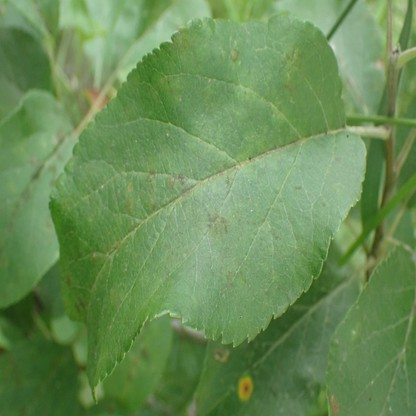rust: (238, 377, 253, 401)
scab: (236, 188, 286, 253), (60, 161, 110, 220), (155, 231, 186, 284), (213, 245, 246, 284), (280, 44, 304, 90), (173, 30, 202, 58), (239, 130, 263, 163), (190, 123, 216, 150), (132, 249, 153, 282), (161, 75, 183, 105), (109, 281, 127, 316), (206, 211, 230, 236), (234, 71, 255, 99), (261, 267, 280, 297), (145, 169, 158, 211), (205, 84, 221, 115), (28, 152, 45, 179), (269, 100, 286, 122), (6, 203, 18, 234), (109, 237, 124, 256), (39, 211, 52, 232), (18, 183, 31, 203), (124, 196, 136, 217), (73, 298, 84, 313), (228, 49, 240, 62), (66, 274, 74, 291), (295, 247, 307, 258), (168, 174, 175, 191), (179, 173, 189, 184), (295, 234, 305, 244), (294, 183, 303, 191), (335, 156, 340, 164), (322, 201, 326, 209)
